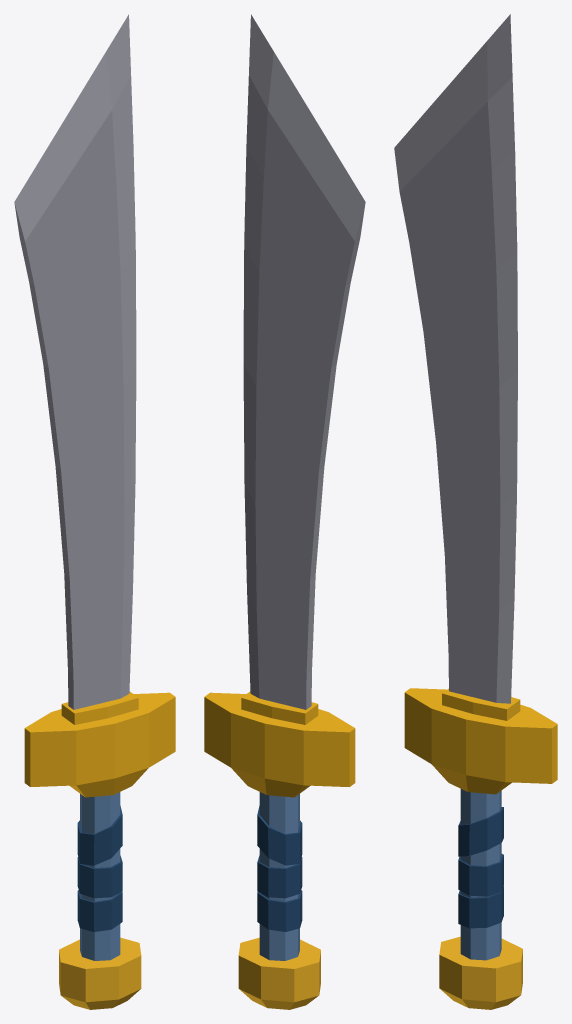
3 views of the same model, side by side, from view 1: azimuth 30°, elevation 25°; view 2: azimuth 150°, elevation 25°; view 3: azimuth 330°, elevation 25° (orthographic).
Visible parts, largest first — view 1: LowPolySword; view 2: LowPolySword; view 3: LowPolySword.
Part boxes in pixels (x1,y1,x2,y2): LowPolySword: (14,14,175,1009); LowPolySword: (204,14,365,1009); LowPolySword: (394,14,557,1009).
Size of what is drawn, in the model's own units: 0.1795 by 1.06 by 0.0738.
1 material, 1 textured.
